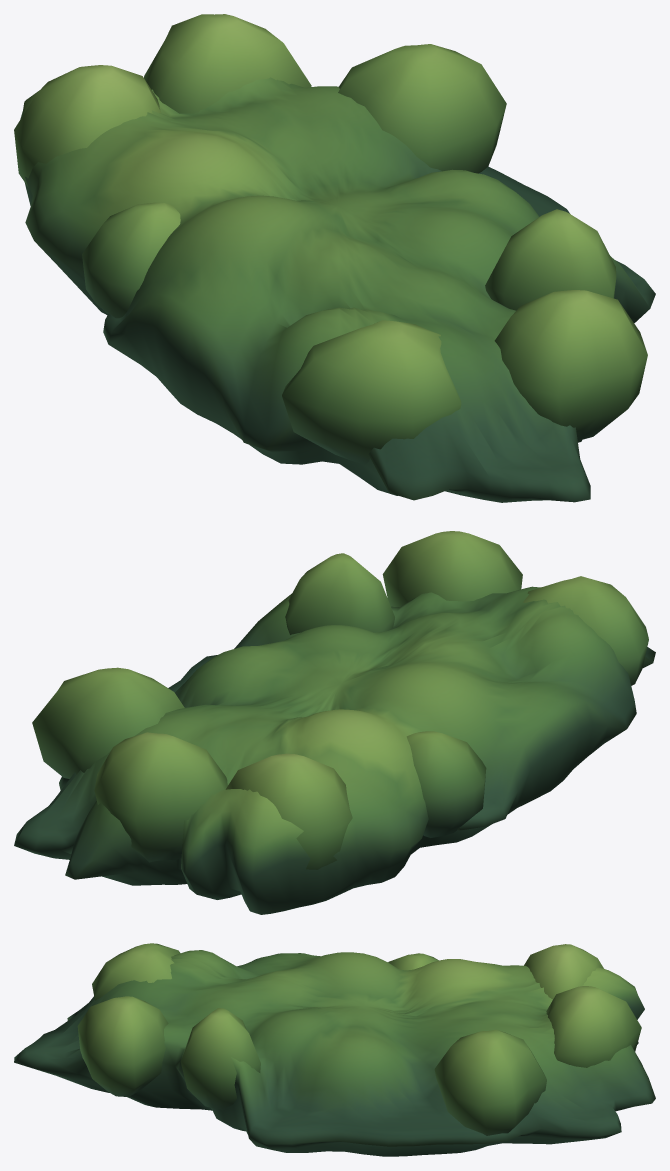
Rendered from ForestFinger_A.fbx.
3 views of the same model, one above another, from view 1: azimuth 30°, elevation 25°; view 2: azimuth 150°, elevation 25°; view 3: azimuth 270°, elevation 25° (orthographic). The views are drawn at different scales.
Visible parts, largest first — view 1: ForestFinger_A; view 2: ForestFinger_A; view 3: ForestFinger_A.
Part boxes in pixels (x1,y1,x2,y2): ForestFinger_A: (14, 14, 655, 502); ForestFinger_A: (14, 531, 655, 914); ForestFinger_A: (14, 943, 655, 1156).
Size of the model in its own units: 1995 by 720 by 3533.
1 material, 1 textured.
